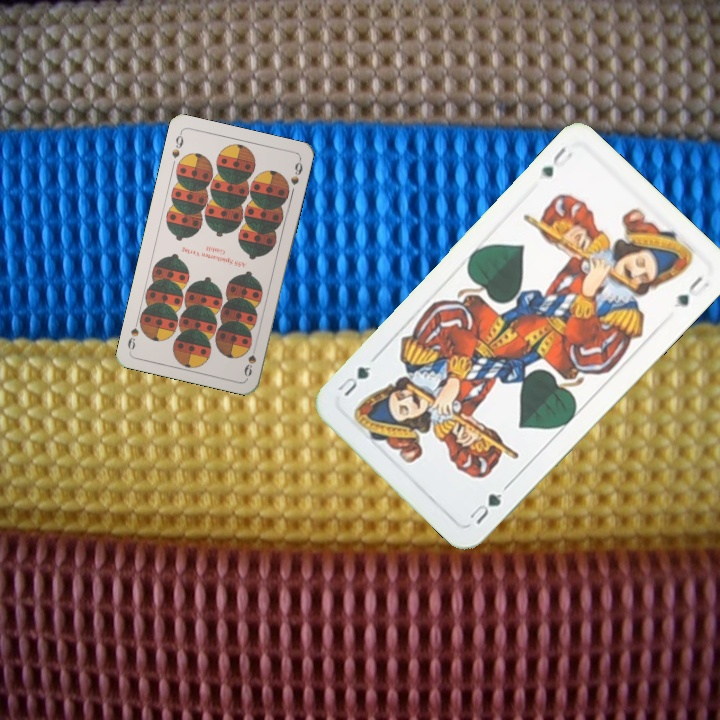GU: (464, 489, 505, 527), (537, 142, 575, 180)
S9: (240, 339, 259, 379), (167, 128, 186, 161)
